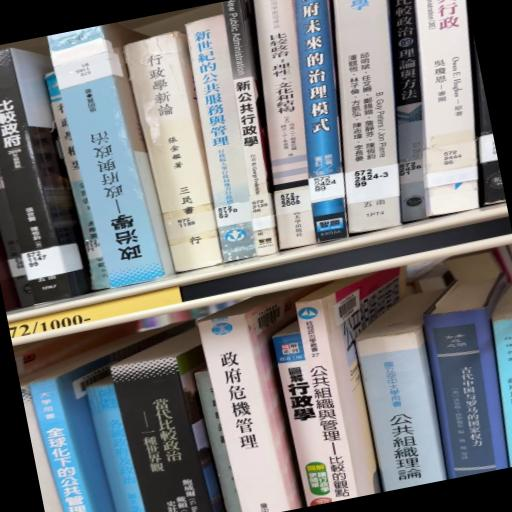reverse: (49, 23, 175, 288)
